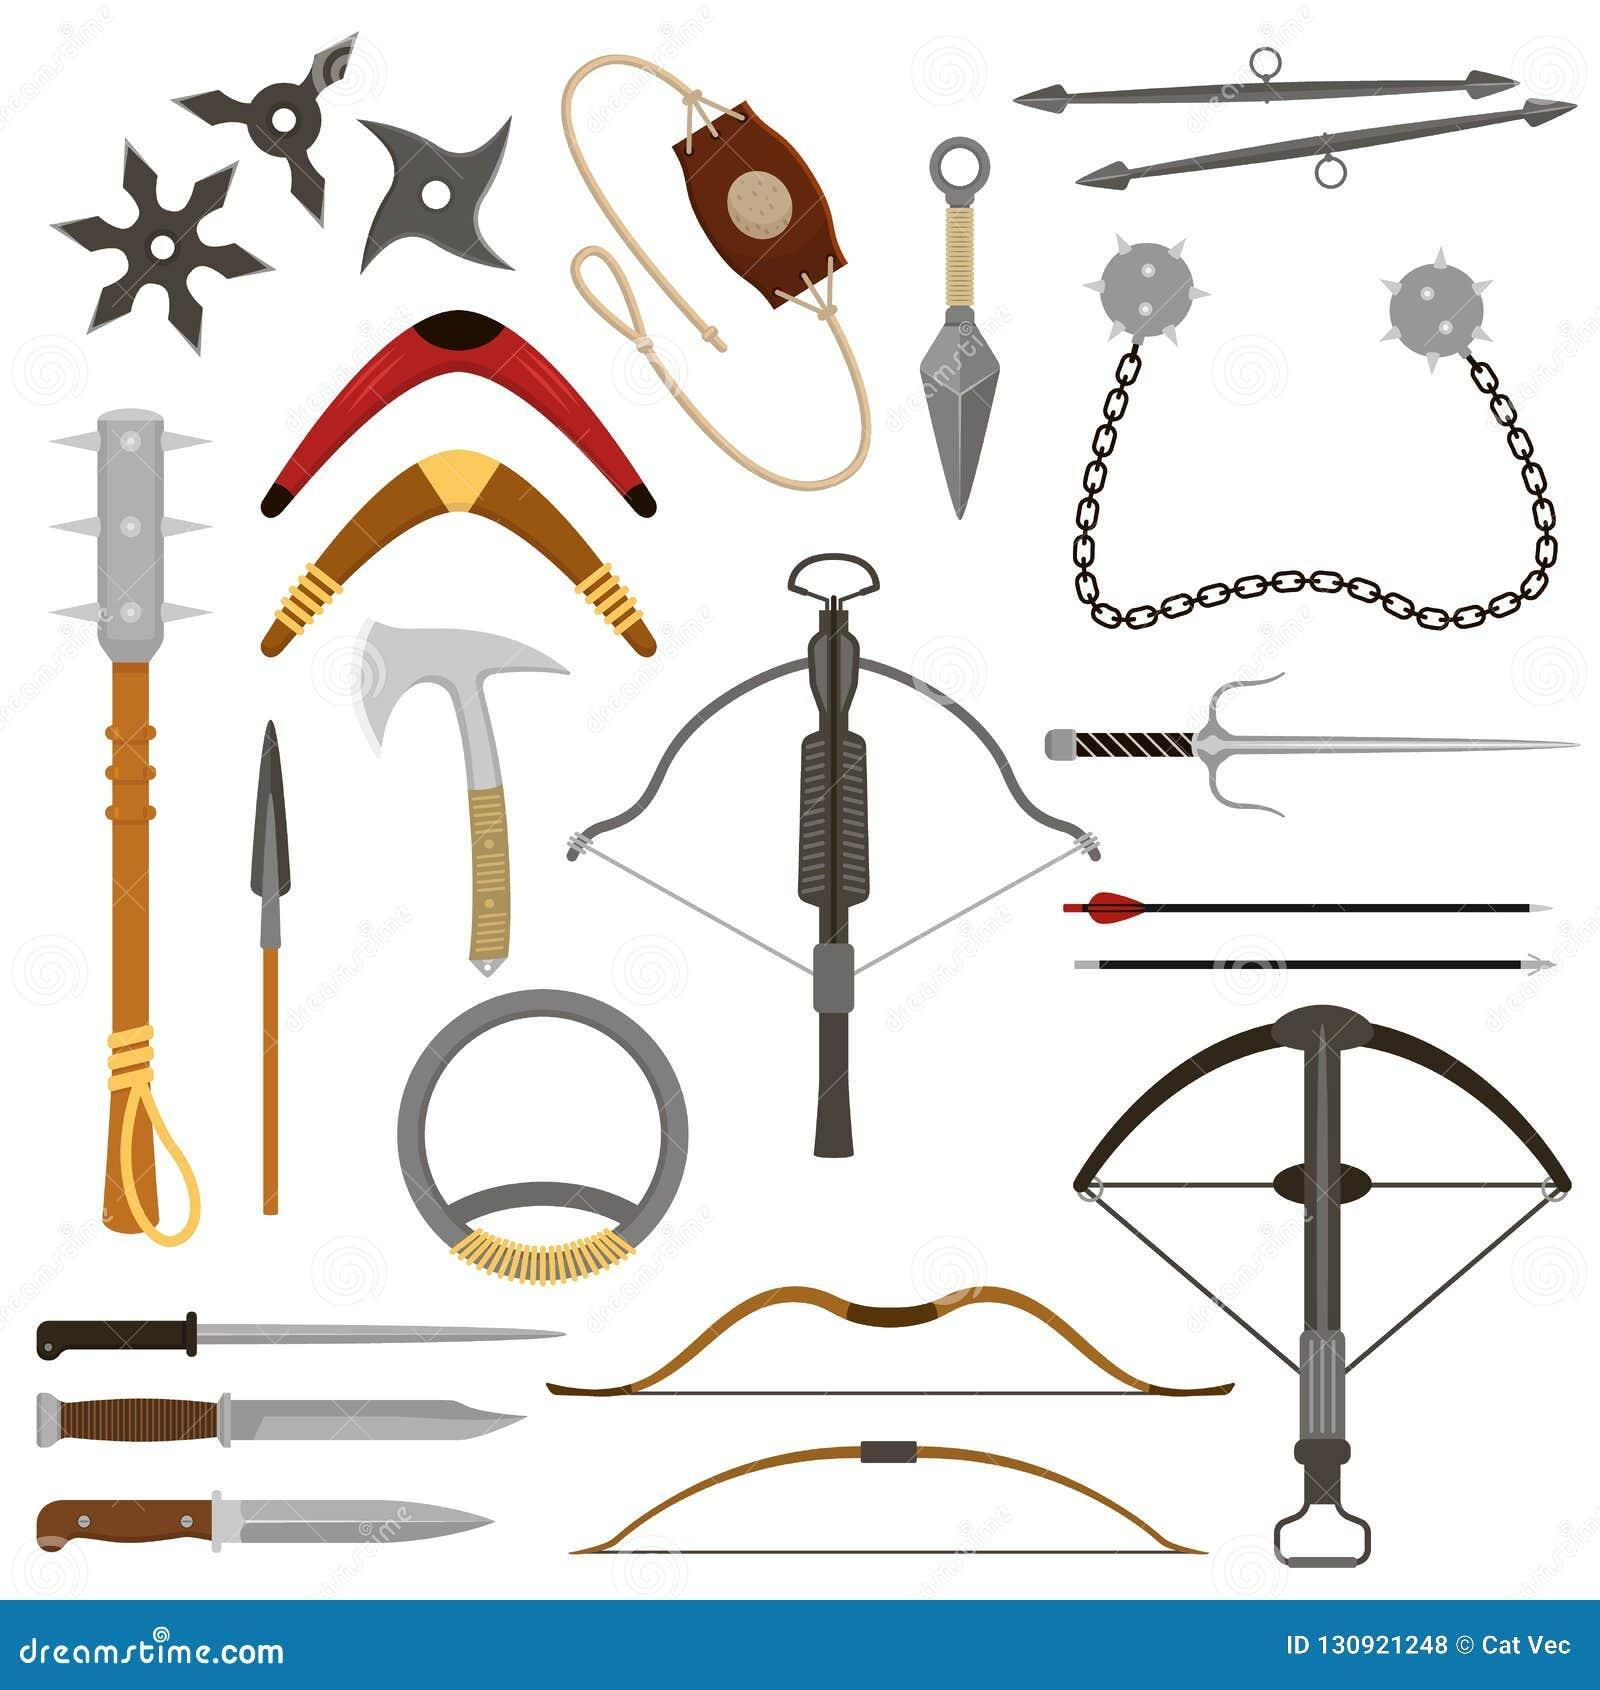espada: (1044, 677, 1574, 816)
faca: (920, 137, 998, 519), (36, 1492, 492, 1552), (39, 1392, 517, 1446), (36, 1313, 559, 1361), (250, 723, 290, 949)
machado: (359, 622, 565, 973)
